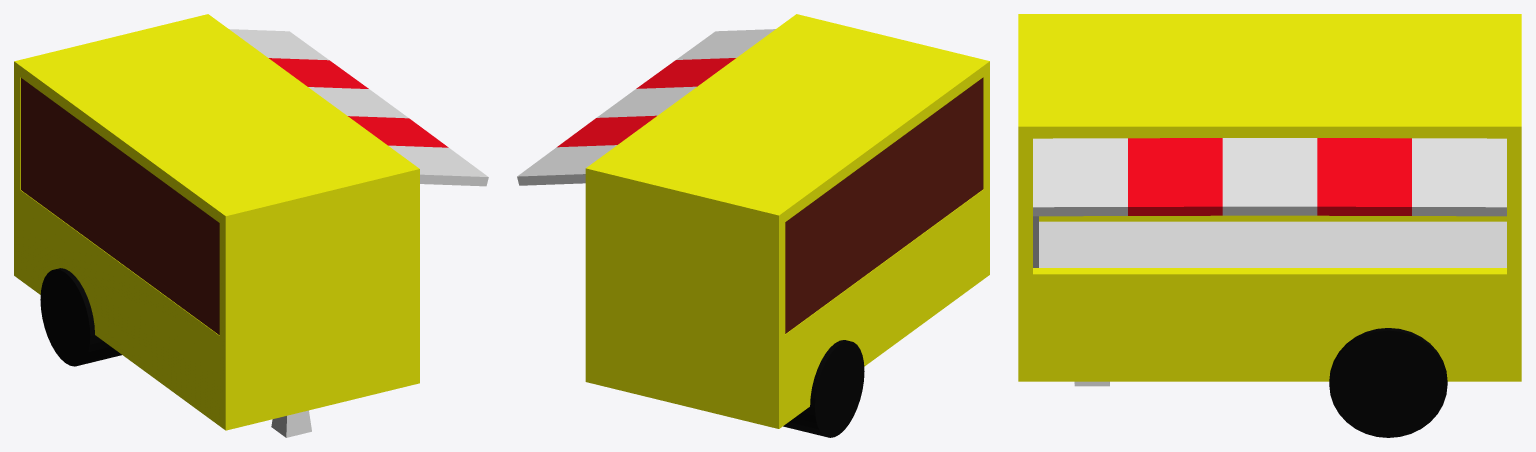
Rendered from TruckInside.fbx.
The picture shows the model from 3 angles, left to right: view 1: azimuth 30°, elevation 25°; view 2: azimuth 150°, elevation 25°; view 3: azimuth 270°, elevation 25°; orthographic projection. The views are drawn at different scales.
Parts seen in each view (by area): view 1: Cube, Cube.002, Cube.005, Cylinder, Cube.003; view 2: Cube, Cube.002, Cube.005, Cylinder; view 3: Cube, Cube.005, Cube.004, Cylinder.
Boxes of the visible parts, <box> form: Cube: <box>14,14,419,430</box>; Cube.002: <box>21,78,219,334</box>; Cube.005: <box>229,29,488,186</box>; Cylinder: <box>40,268,121,366</box>; Cube.003: <box>271,410,311,437</box>; Cube: <box>585,14,989,428</box>; Cube.002: <box>785,77,983,333</box>; Cube.005: <box>517,29,775,185</box>; Cylinder: <box>783,340,864,437</box>; Cube: <box>1018,14,1521,381</box>; Cube.005: <box>1033,138,1506,216</box>; Cube.004: <box>1039,221,1506,267</box>; Cylinder: <box>1329,328,1447,437</box>.
Bounding box in the file's own units: 636 × 575 × 850.
